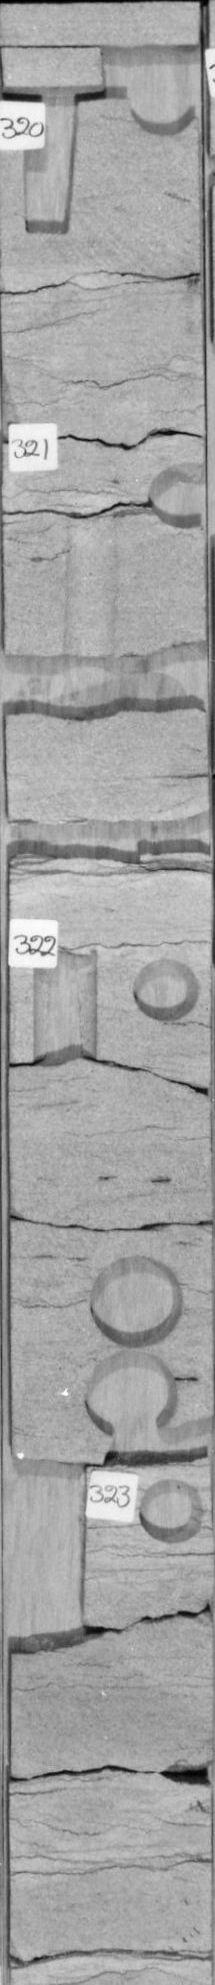hplug: (128, 955, 206, 1024), (137, 1474, 207, 1548), (140, 458, 204, 541), (118, 97, 199, 142)
scal: (83, 1256, 185, 1349), (78, 1348, 185, 1436)
vplug: (14, 1450, 95, 1656), (57, 513, 128, 656), (27, 944, 107, 1068), (20, 89, 85, 242)
